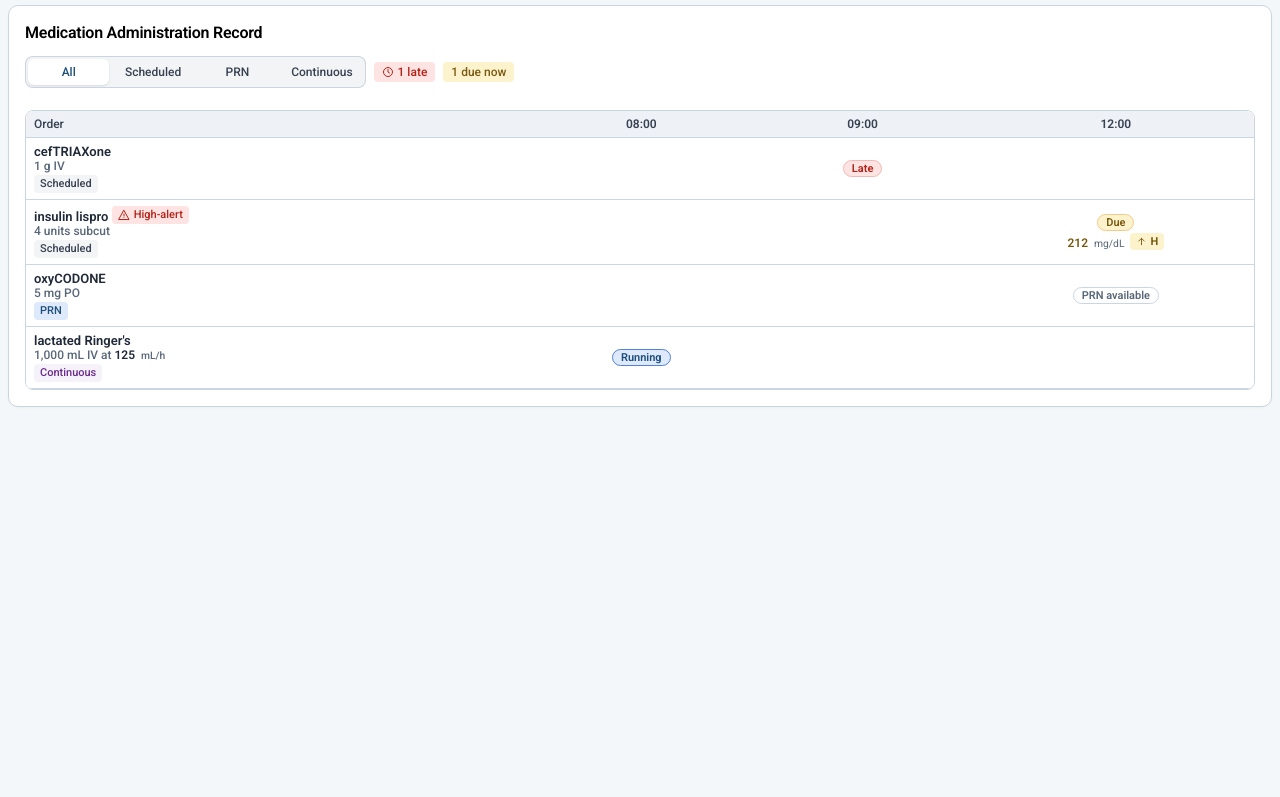
Test: MAR › records Held only with a reason
Click the button with aria-label "Administer oxyCODONE 12:00, PRN available": (1116, 296) [1067,283,1165,308]
(page scrolled)
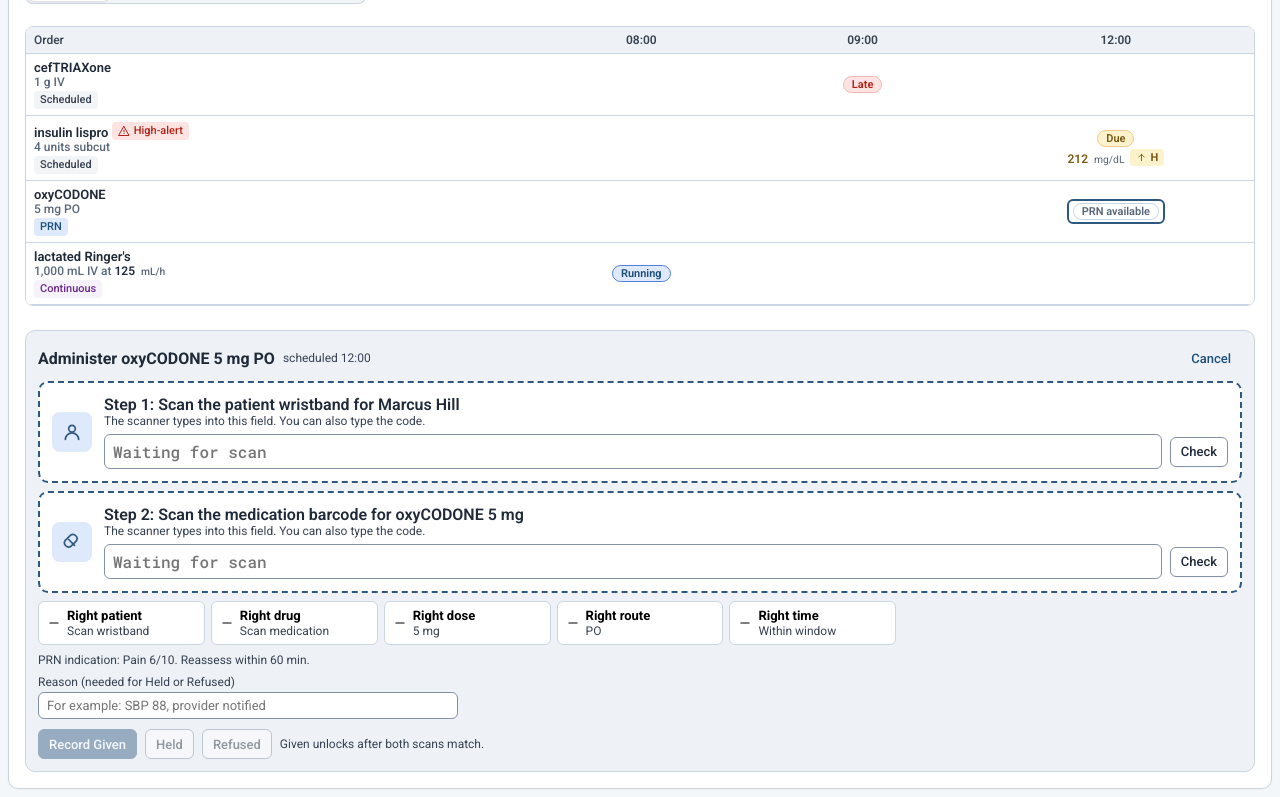
Expected: the text "PRN indication: Pain 6/10. Reassess within 60 min." is shown, [38,653,310,667]
Expected: the button "Held" is disabled, [145,729,194,759]
In the field labelled "Reason (needed for Held or Refused)": (248, 706) [38,692,458,719], type "Patient asleep"
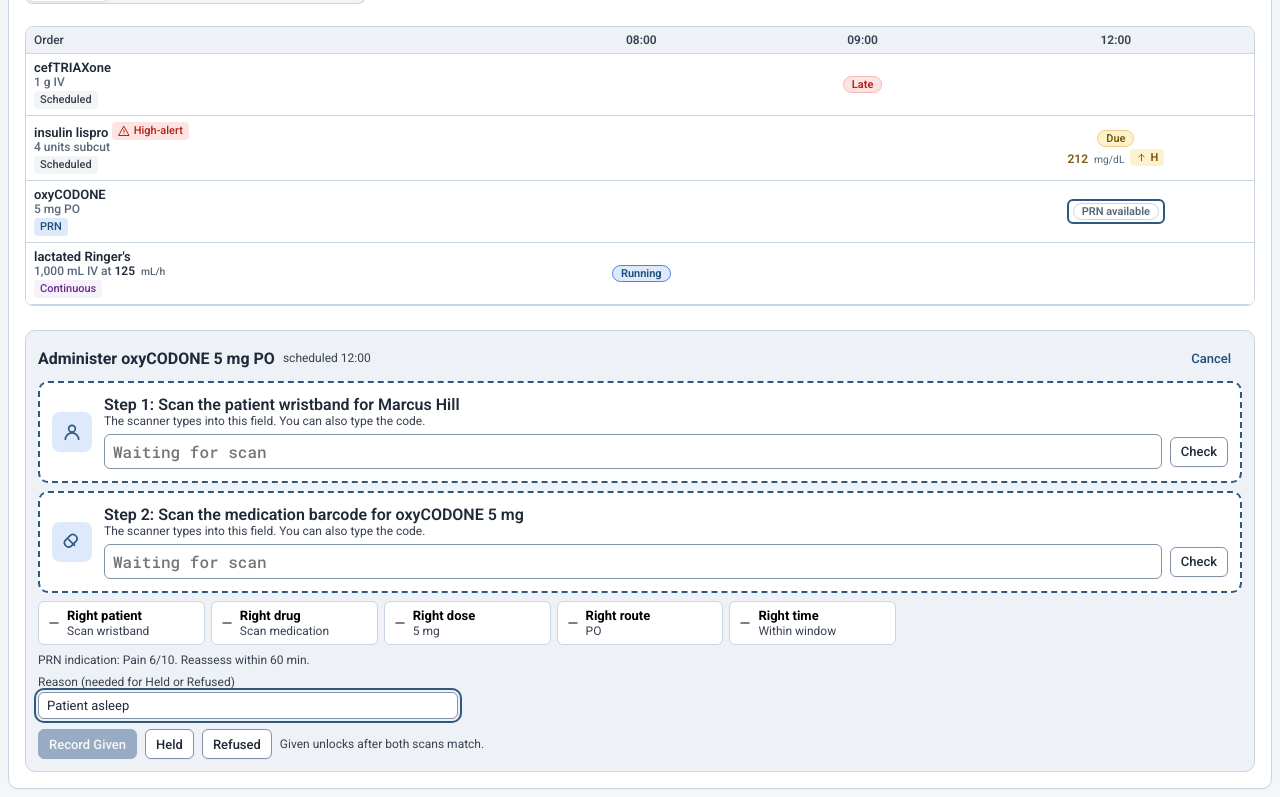
Click the button "Held": (170, 744) [145,729,194,759]
(page scrolled)
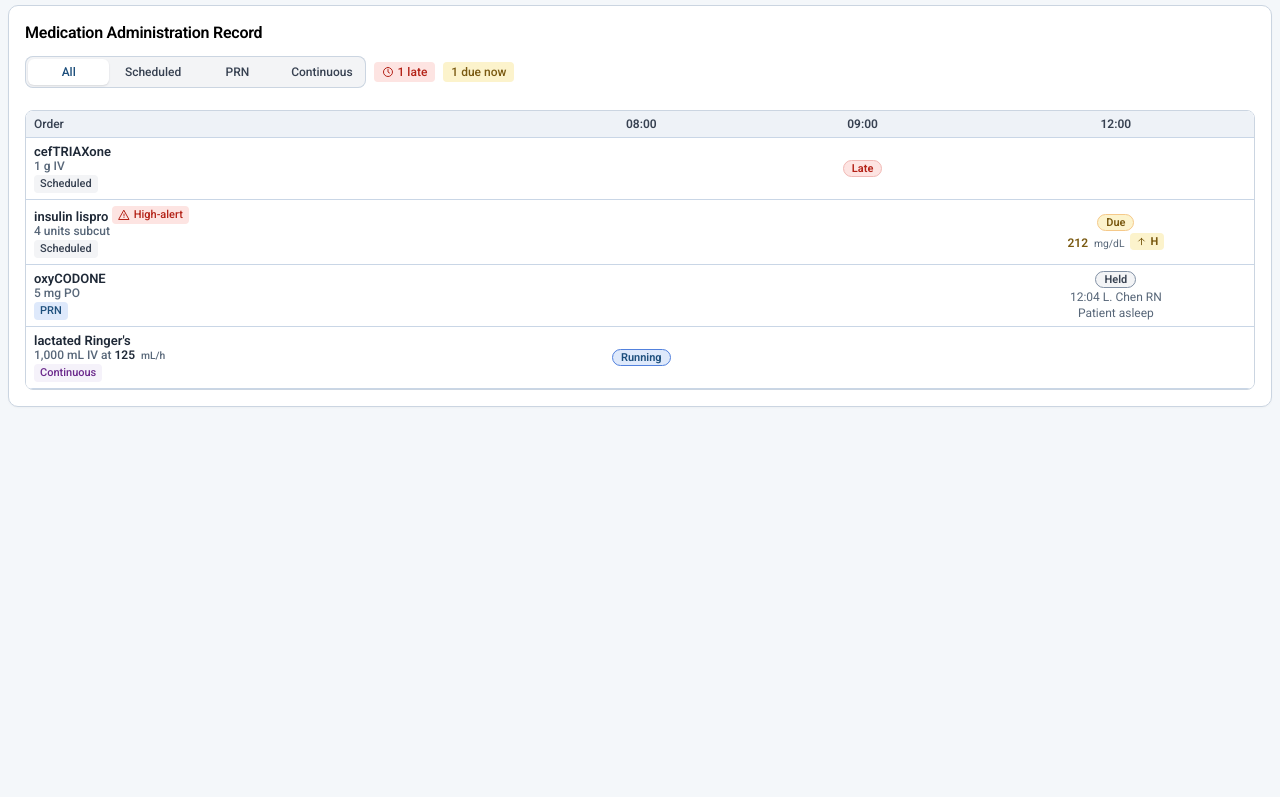
Expected: the text "Patient asleep" is shown, [1078,306,1154,320]
